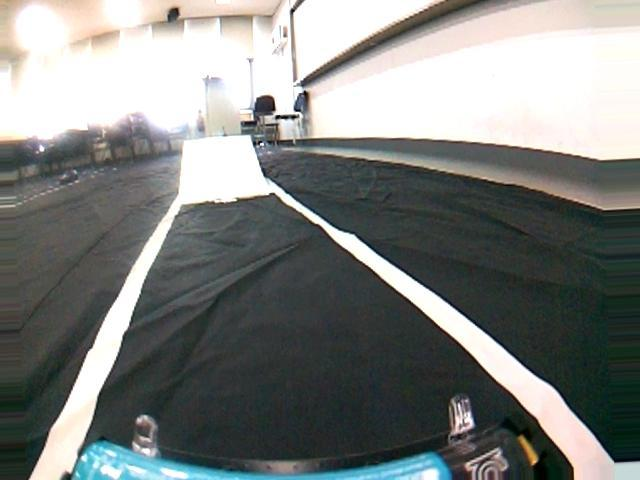hill_up: (168, 131, 282, 206)
straight: (41, 203, 626, 479)
